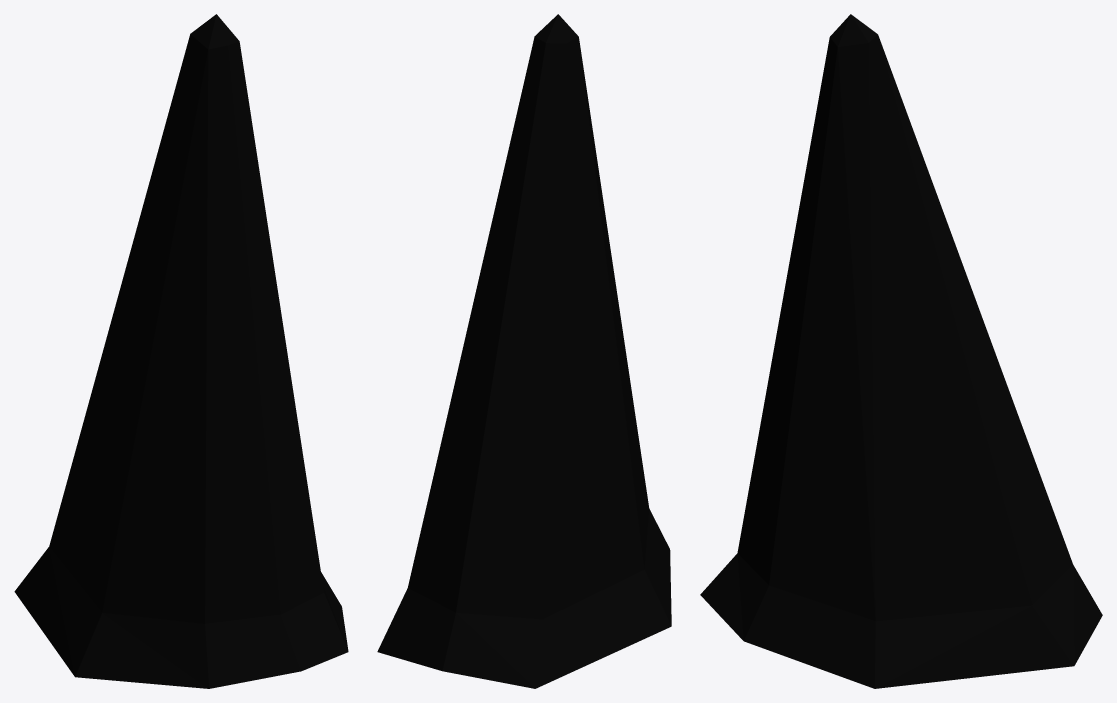
File: 0388_niduow.glb
The picture shows the model from 3 angles, left to right: view 1: azimuth 30°, elevation 25°; view 2: azimuth 150°, elevation 25°; view 3: azimuth 270°, elevation 25°; orthographic projection. The views are drawn at different scales.
Size of the model in its own units: 0.9768 by 2.2 by 1.31.
Materials: 1 (1 with a texture image).
